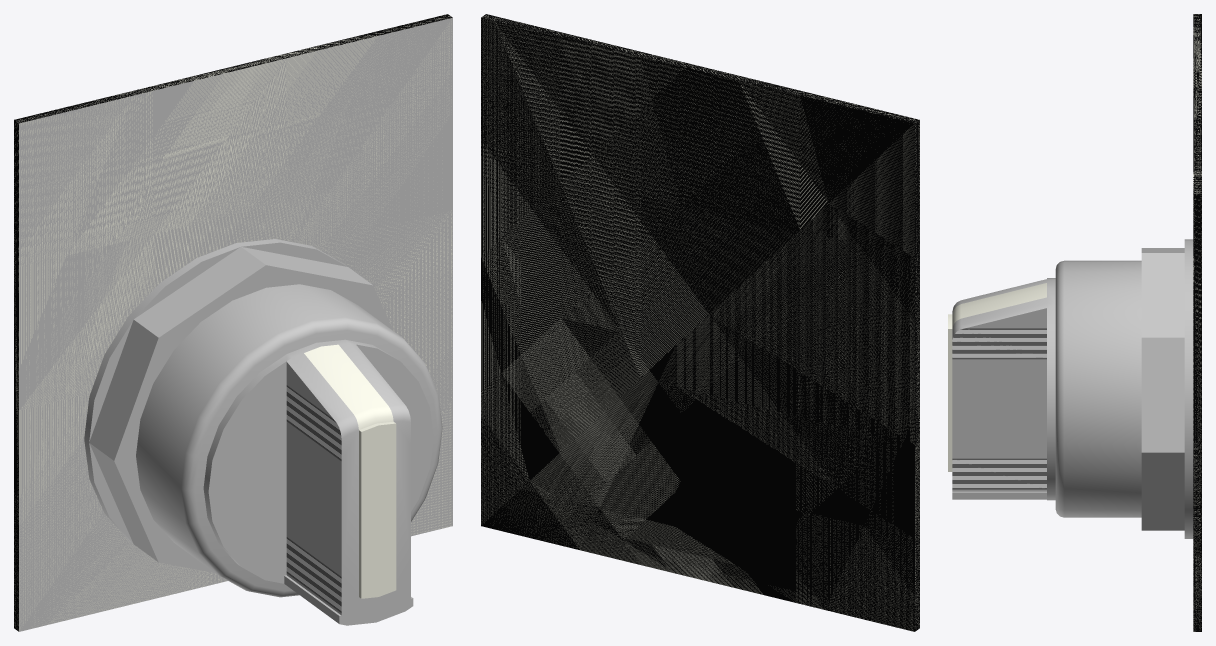
Rendered from binary_switch.dae.
3 views of the same model, side by side, from view 1: azimuth 30°, elevation 25°; view 2: azimuth 150°, elevation 25°; view 3: azimuth 270°, elevation 25° (orthographic). The views are drawn at different scales.
Parts seen in each view (by area): view 1: placard (×2), switch1 (×4), switch_housing, housing_nut; view 2: placard; view 3: switch1 (×4), switch_housing, housing_nut, placard.
Boxes of the visible parts, x1,y1,x2,y2 form: placard (×2): (14, 14, 452, 631); switch1 (×4): (203, 339, 433, 625); switch_housing: (136, 284, 442, 597); housing_nut: (84, 239, 392, 573); placard: (481, 14, 919, 631); switch1 (×4): (948, 278, 1055, 500); switch_housing: (1055, 260, 1141, 517); housing_nut: (1141, 239, 1193, 538); placard: (1193, 14, 1201, 631).
Size of the model in its own units: 1.97 by 1.16 by 2.2.
